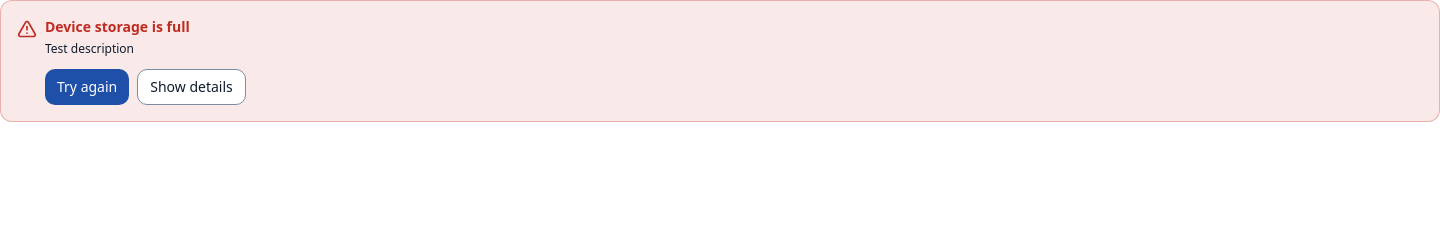
Test: StorageFailureCard — single canonical surface › Show details reveals recovery steps and the raw reason
Check: the text "Free up space" is not shown
Click the button with test id "storage-failure-details". click: (191, 87)
box: 137,69 -> 246,105
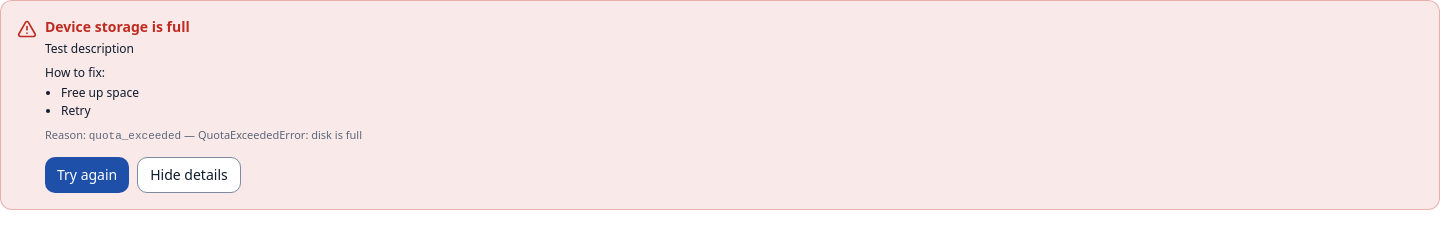
Check: the list item "Free up space" is shown, box 61,84 -> 139,101
Check: the list item "Retry" is shown, box 61,102 -> 91,119
